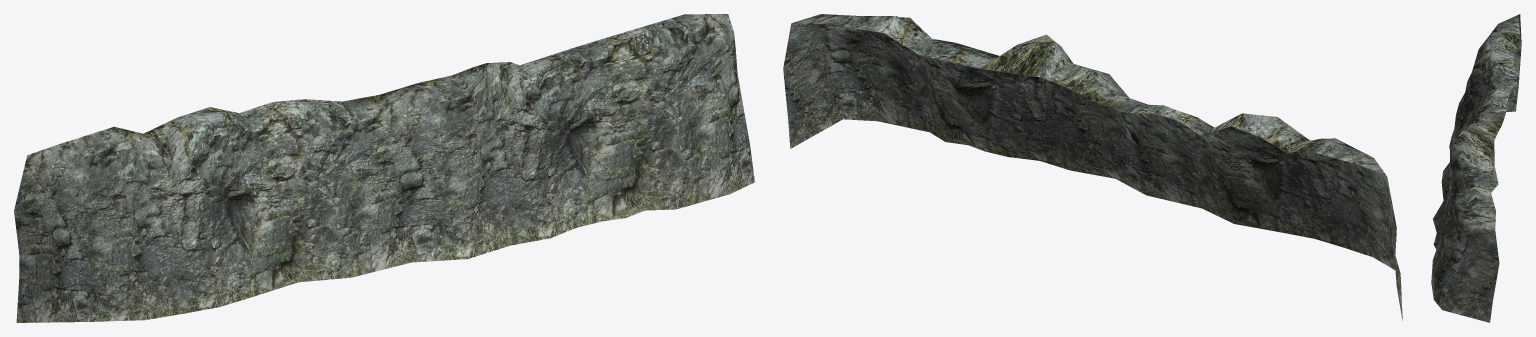
File: rock_01.FBX
The picture shows the model from 3 angles, left to right: view 1: azimuth 30°, elevation 25°; view 2: azimuth 150°, elevation 25°; view 3: azimuth 270°, elevation 25°; orthographic projection. The views are drawn at different scales.
Parts seen in each view (by area): view 1: Rock01; view 2: Rock01; view 3: Rock01.
Boxes of the visible parts, x1=… form: Rock01: x1=14, y1=14, x2=754, y2=322; Rock01: x1=783, y1=14, x2=1402, y2=320; Rock01: x1=1431, y1=14, x2=1521, y2=322.
Bounding box in the file's own units: 87.96 × 21.91 × 15.57.
